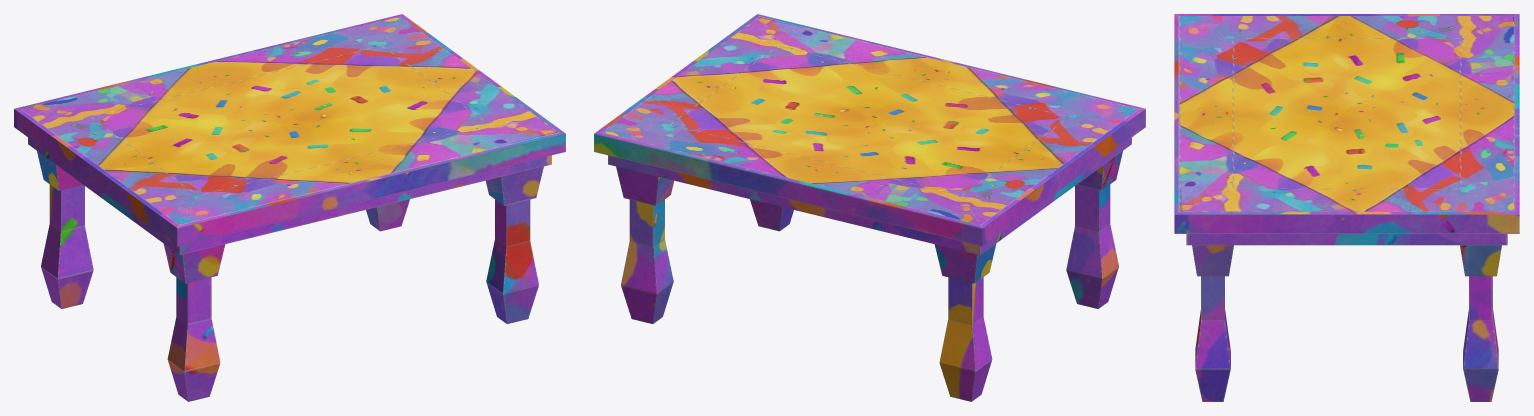
Rendered from table.fbx.
3 views of the same model, side by side, from view 1: azimuth 30°, elevation 25°; view 2: azimuth 150°, elevation 25°; view 3: azimuth 270°, elevation 25° (orthographic). The views are drawn at different scales.
Visible parts, largest first — view 1: Table.003; view 2: Table.003; view 3: Table.003.
Boxes of the visible parts, <box> form: Table.003: <box>14,14,565,401</box>; Table.003: <box>594,14,1145,401</box>; Table.003: <box>1174,14,1519,401</box>.
Bounding box in the file's own units: 1.92 × 0.8982 × 1.4.
1 material, 1 textured.
